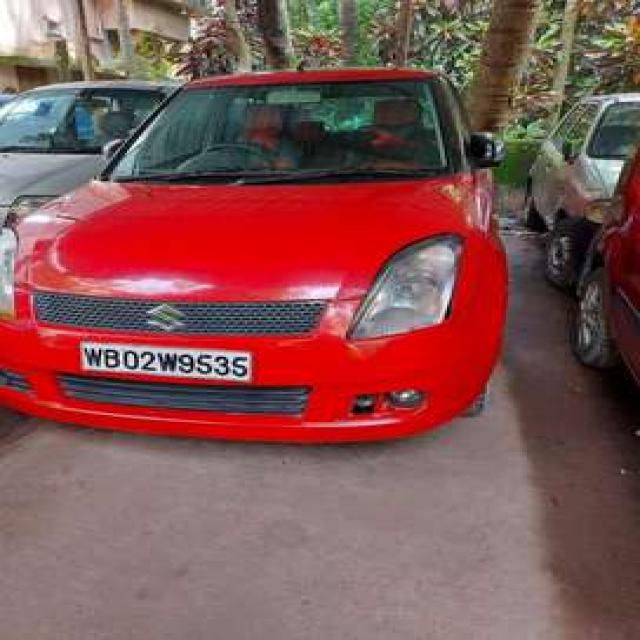Plate: (79, 340, 248, 386)
